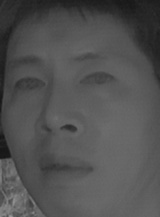eye: (76, 71, 118, 90), (12, 75, 47, 95)
mouth: (30, 148, 94, 185)
